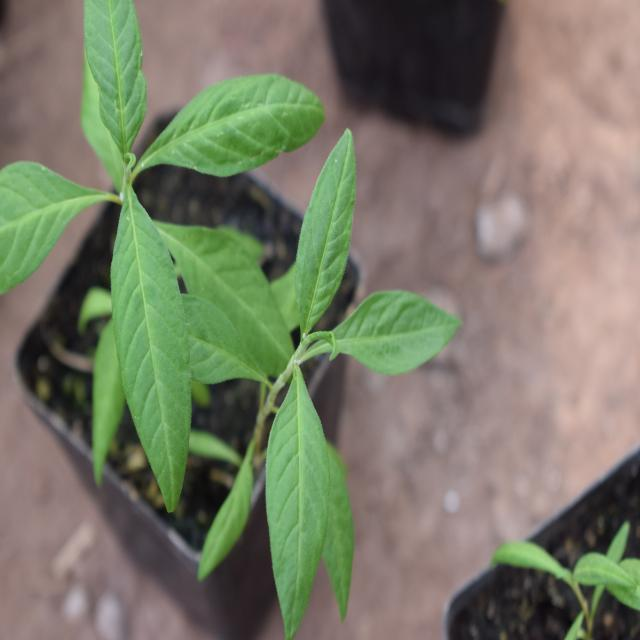white_smart_weed: (0, 37, 287, 512)
